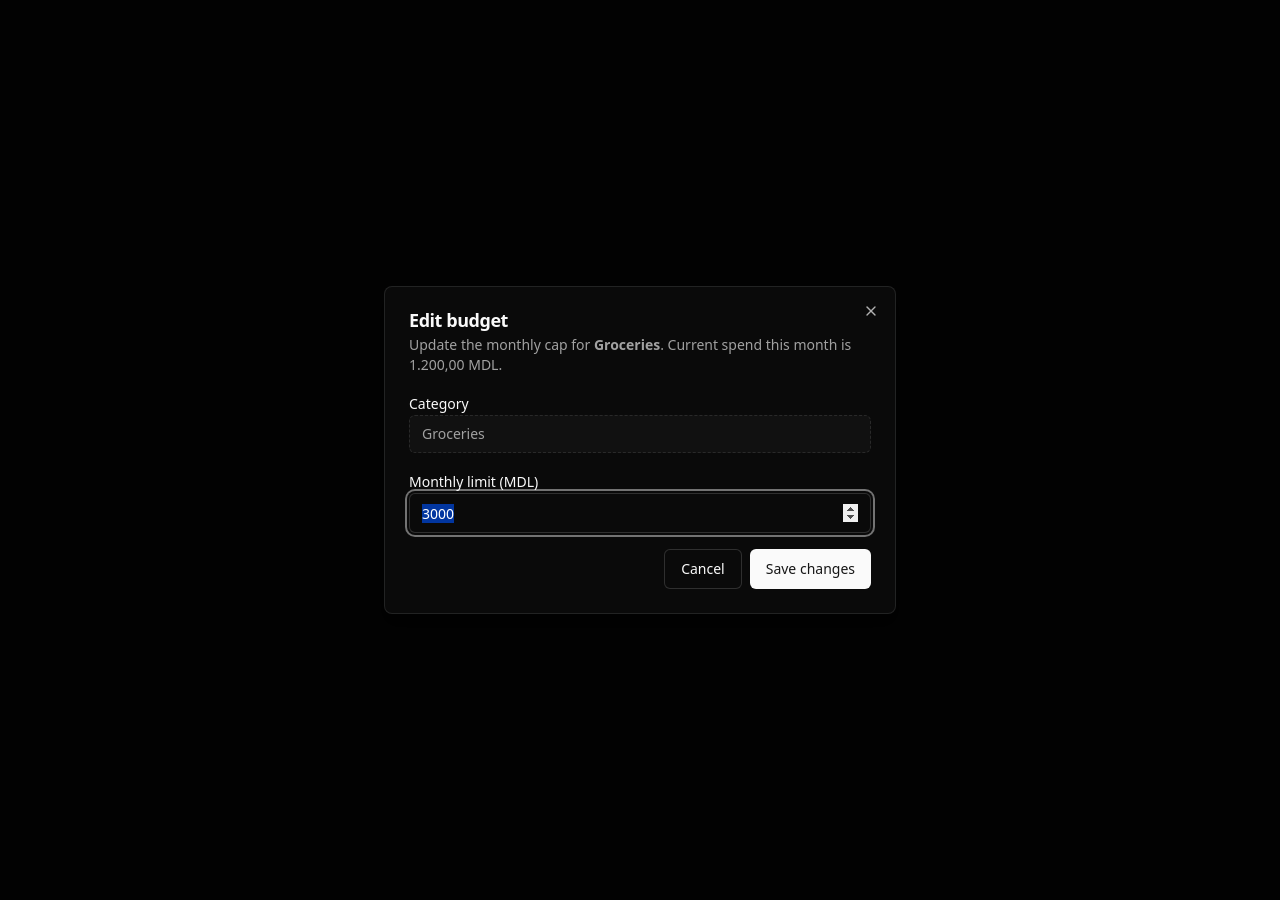
Test: EditBudgetDialog › rejects a non-positive limit via Zod
This screenshot has width=1280, height=900.
Replace the text in the number field with test id "edit-budget-monthly-limit-input" with "0" at (640, 513), box [409,493,871,533]
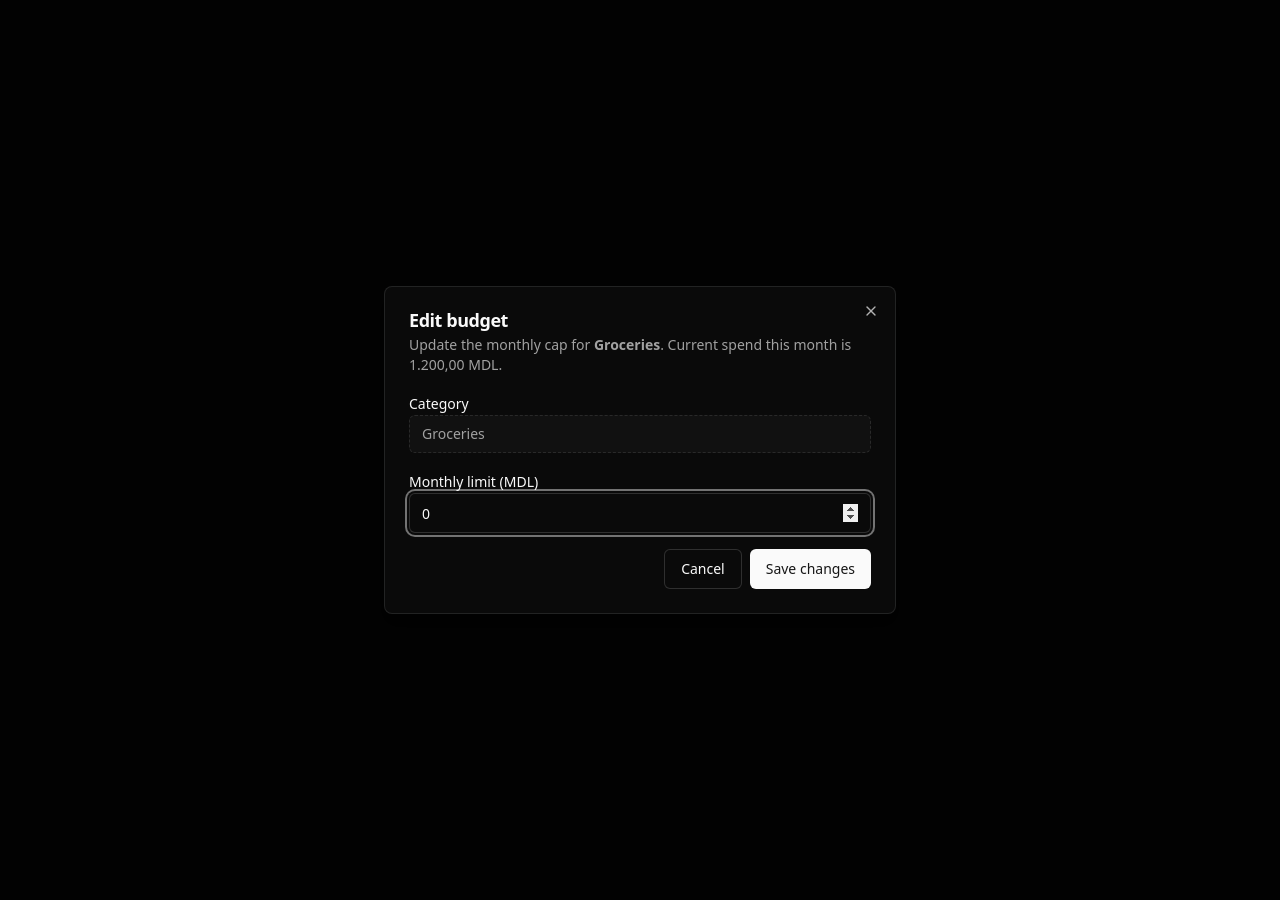
Click the button with test id "edit-budget-submit-button" at (810, 569), box [750,549,871,589]
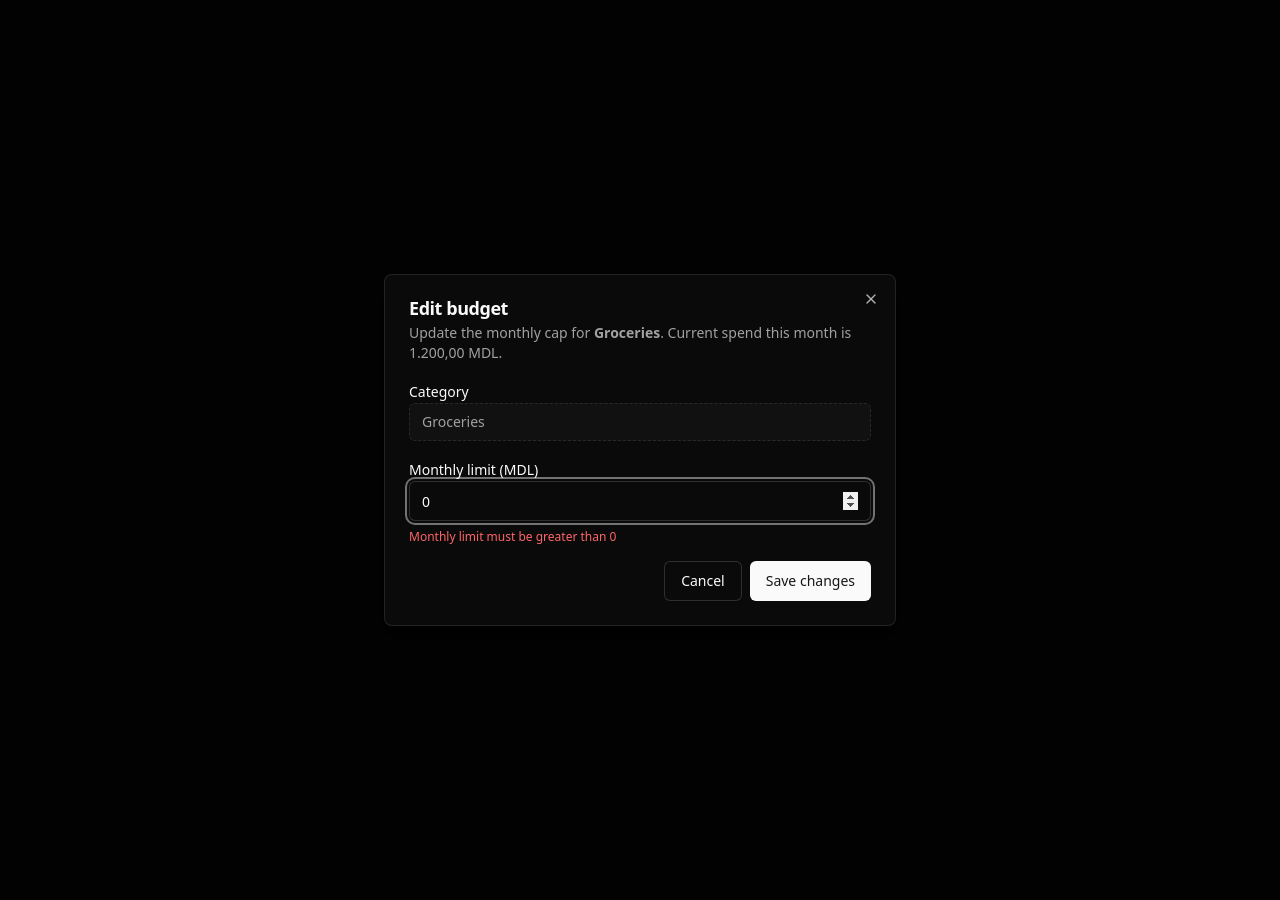
Expected: the text "Monthly limit must be greater than 0" is shown, [409,528,616,545]
